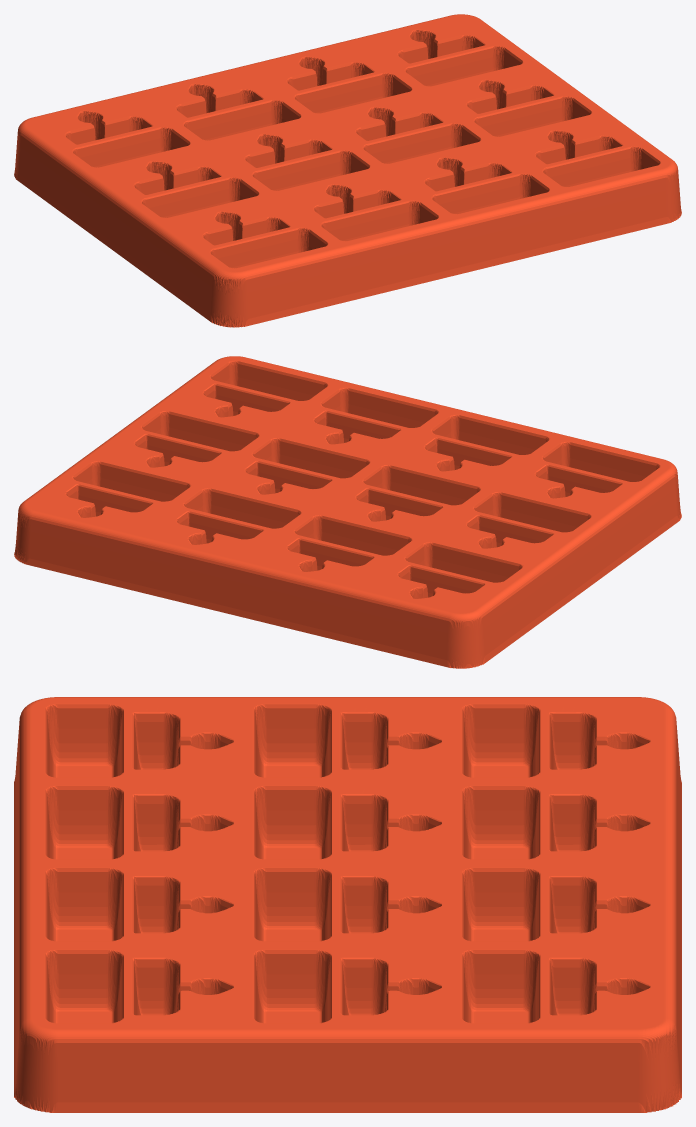
Rendered from mold.glb.
The picture shows the model from 3 angles, top to bottom: view 1: azimuth 30°, elevation 25°; view 2: azimuth 150°, elevation 25°; view 3: azimuth 270°, elevation 25°; orthographic projection. The views are drawn at different scales.
Visible parts, largest first — view 1: geometry_0; view 2: geometry_0; view 3: geometry_0.
Part boxes in pixels (x1,y1,x2,y2): geometry_0: (14, 14, 681, 327); geometry_0: (14, 356, 681, 668); geometry_0: (14, 697, 681, 1112).
Size of the model in its own units: 0.1702 by 0.0175 by 0.1389.
